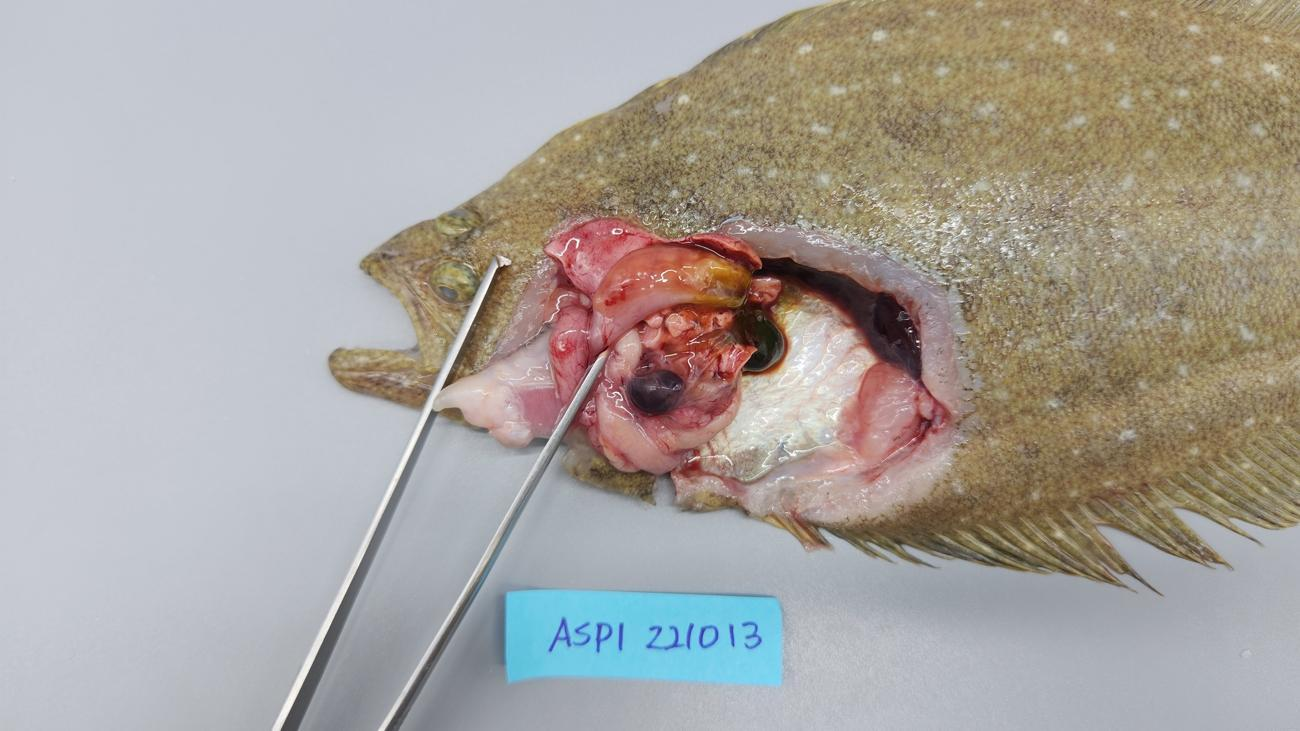SPINH: (548, 335, 586, 360)
SPINI: (592, 245, 751, 318)
